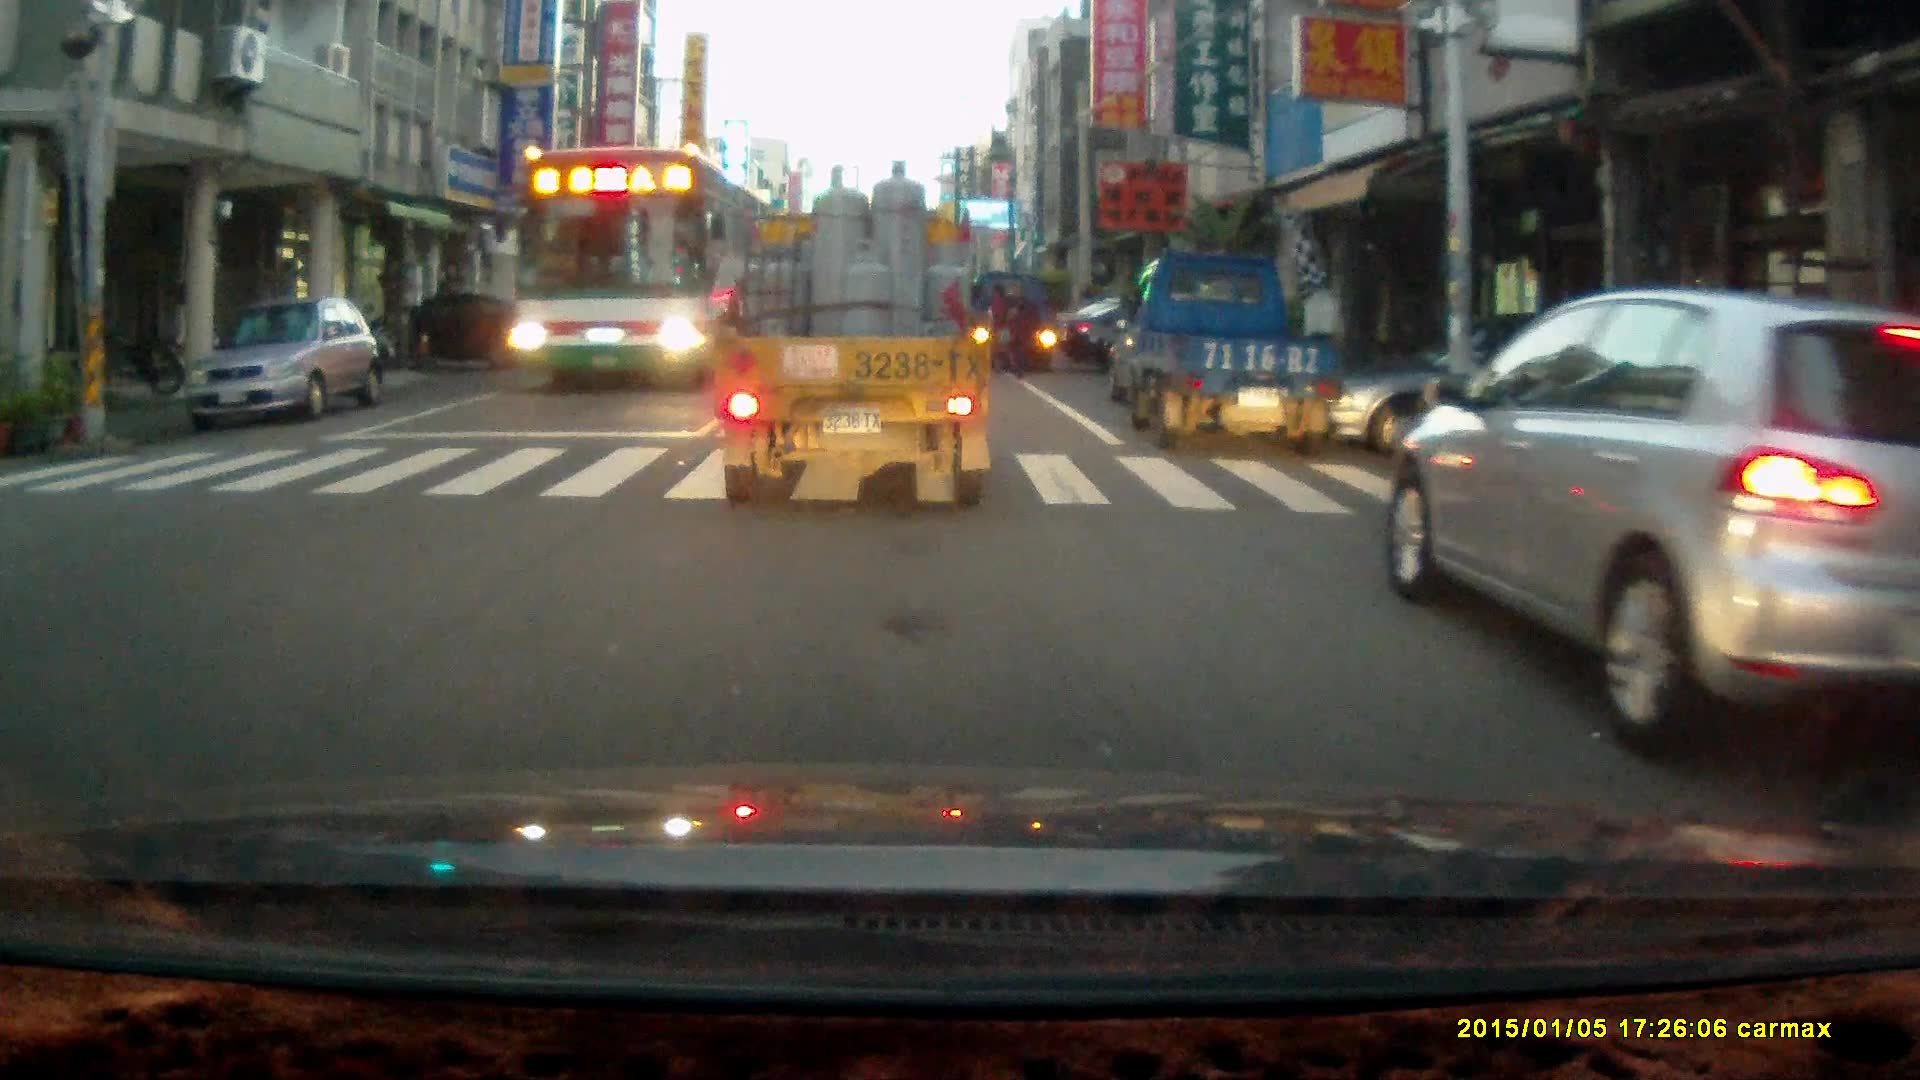pedestrian: (999, 277, 1041, 377), (981, 279, 1008, 374)
vehicle: (1383, 287, 1920, 775), (716, 154, 998, 508), (505, 142, 765, 391), (1108, 248, 1345, 453), (178, 289, 386, 426), (340, 285, 549, 367), (970, 268, 1065, 378)
